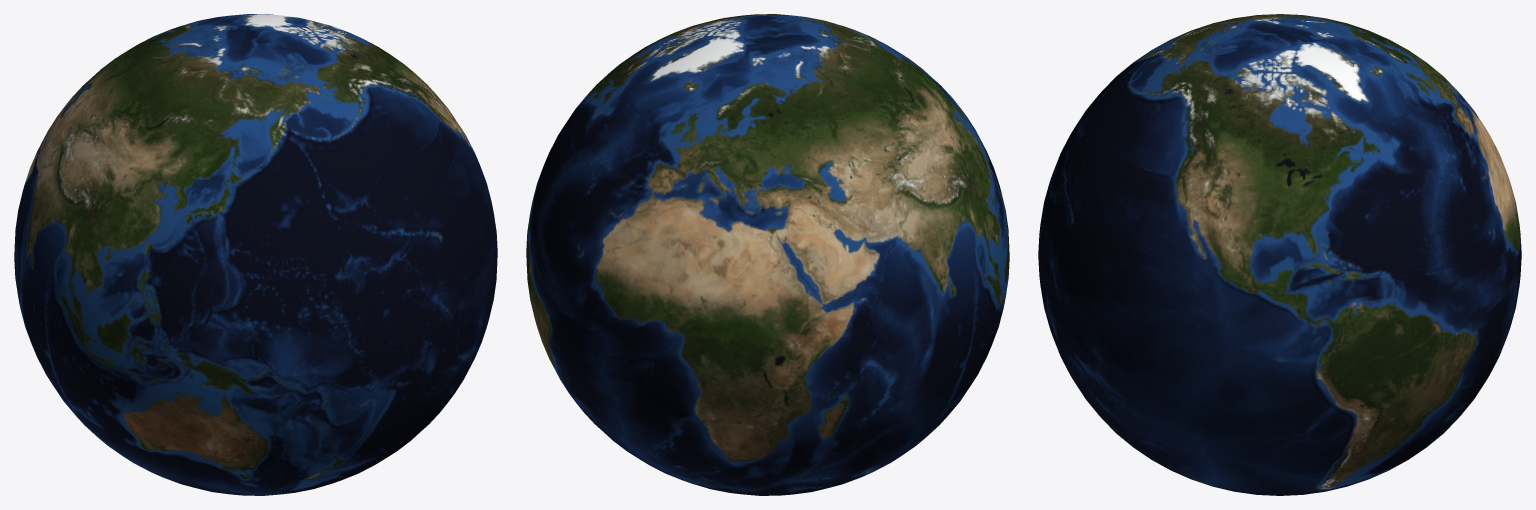
File: earth-lossy.glb
3 views of the same model, side by side, from view 1: azimuth 30°, elevation 25°; view 2: azimuth 150°, elevation 25°; view 3: azimuth 270°, elevation 25° (orthographic).
Size of the model in its own units: 1000 by 997 by 1000.
1 material, 1 textured.
